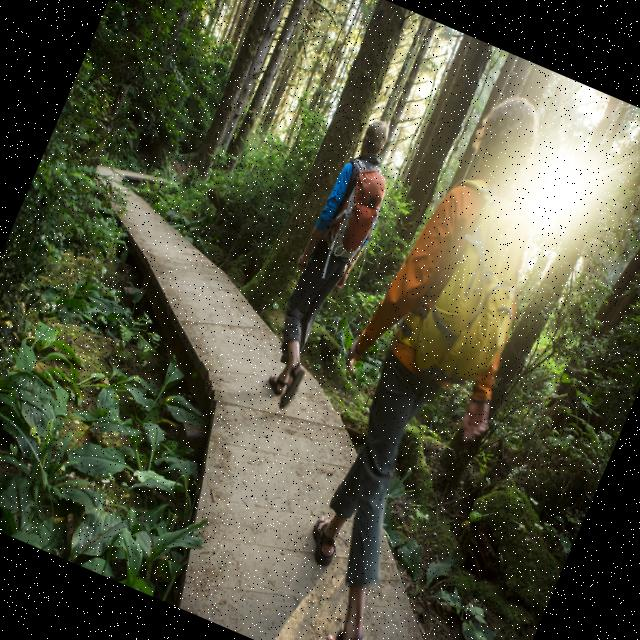Person: (228, 73, 609, 640), (240, 110, 414, 417)
